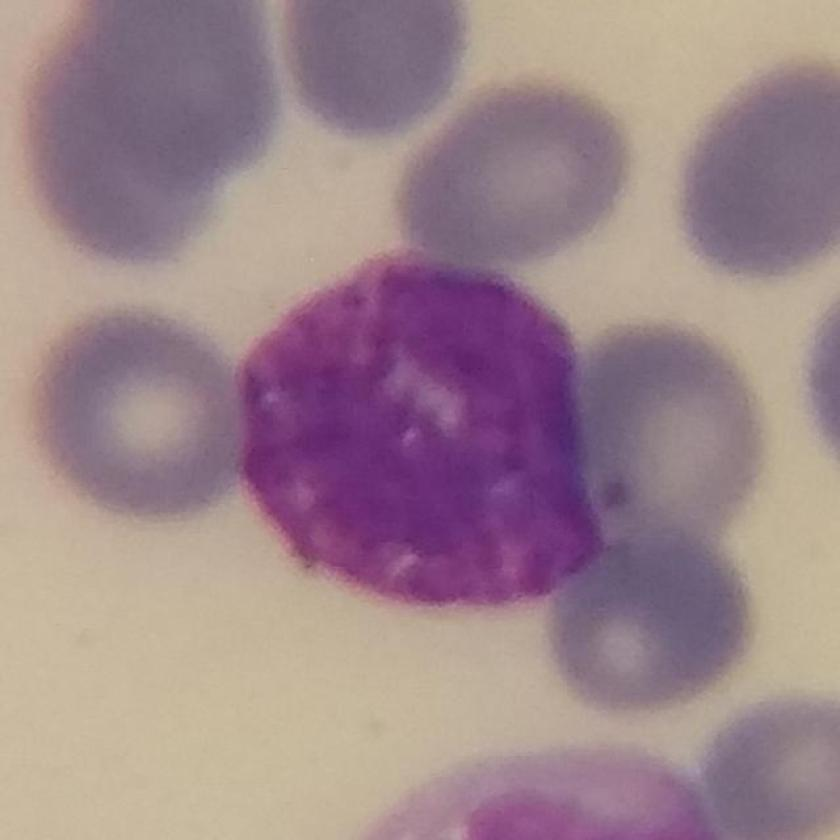basophil: (225, 248, 627, 617)
